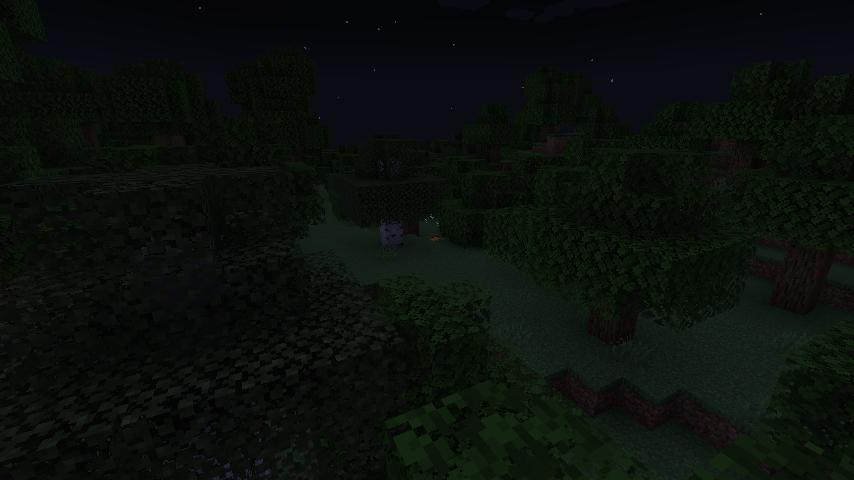fox: (429, 235, 442, 243)
